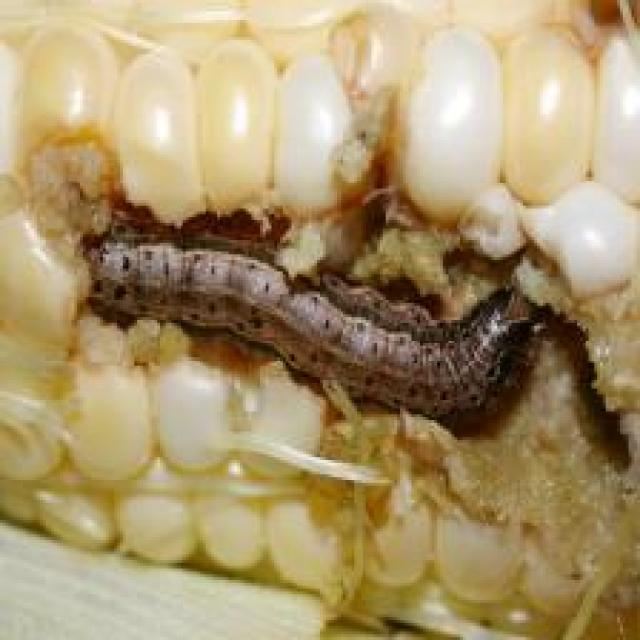Plaga: (64, 214, 552, 434)
